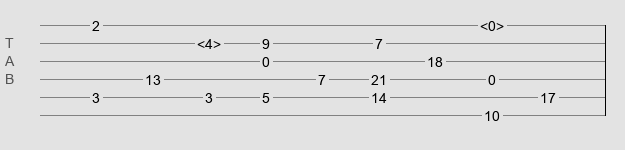0: (262, 54, 270, 64), (488, 72, 496, 82)
10: (484, 108, 500, 118)
13: (145, 72, 161, 82)
14: (371, 90, 387, 100)
17: (540, 90, 556, 100)
18: (427, 54, 443, 64)
2: (92, 18, 100, 28)
21: (371, 72, 387, 82)
3: (92, 90, 100, 100), (205, 90, 213, 100)
5: (262, 90, 270, 100)
7: (318, 72, 326, 82), (375, 36, 383, 46)
9: (262, 36, 270, 46)
harmonic: (197, 36, 221, 46), (480, 18, 504, 28)
